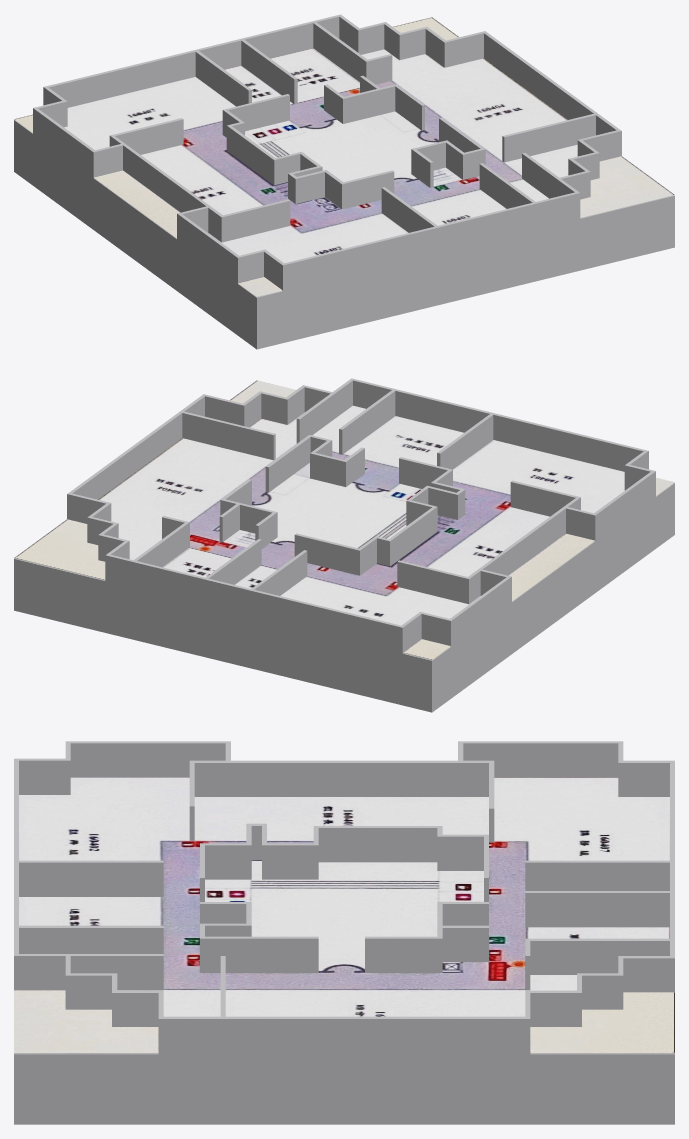
The model's file is Administration-4F-cube.glb.
3 renders of one model, top to bottom at view 1: azimuth 30°, elevation 25°; view 2: azimuth 150°, elevation 25°; view 3: azimuth 270°, elevation 25°, orthographic. The views are drawn at different scales.
Parts seen in each view (by area): view 1: Cube, Plane; view 2: Cube, Plane; view 3: Cube, Plane.
Boxes of the visible parts, x1=… form: Cube: x1=14, y1=14, x2=674, y2=349; Plane: x1=14, y1=17, x2=674, y2=296; Cube: x1=14, y1=378, x2=674, y2=712; Plane: x1=14, y1=380, x2=674, y2=659; Cube: x1=14, y1=741, x2=674, y2=1124; Plane: x1=14, y1=777, x2=674, y2=1053.
Bounding box in the file's own units: 16.9 × 3 × 17.
2 materials, 1 textured.
